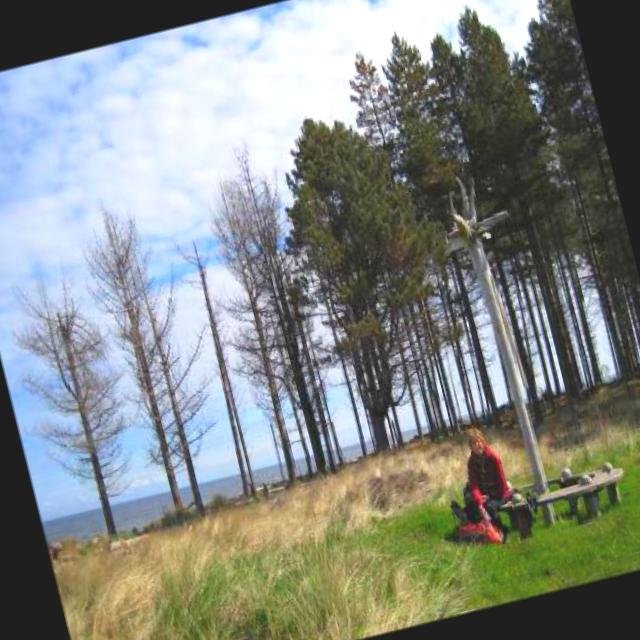Person: (447, 426, 524, 550)
